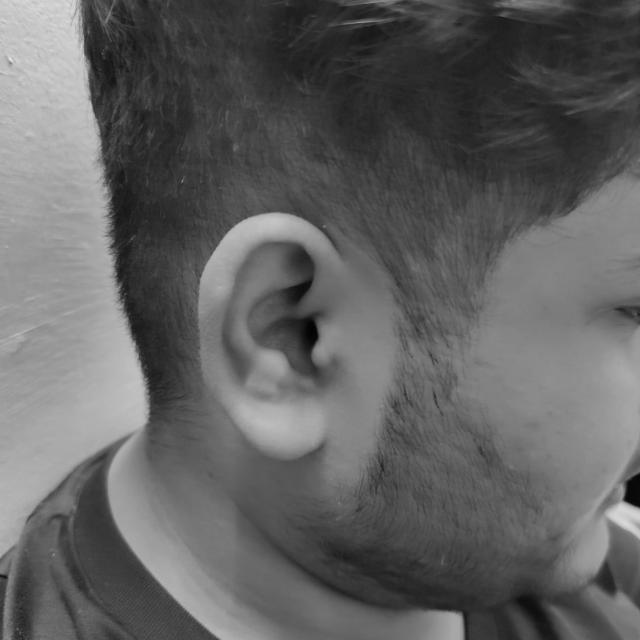ear: (199, 213, 374, 460), (372, 291, 379, 303), (359, 341, 367, 350), (334, 402, 334, 404)
